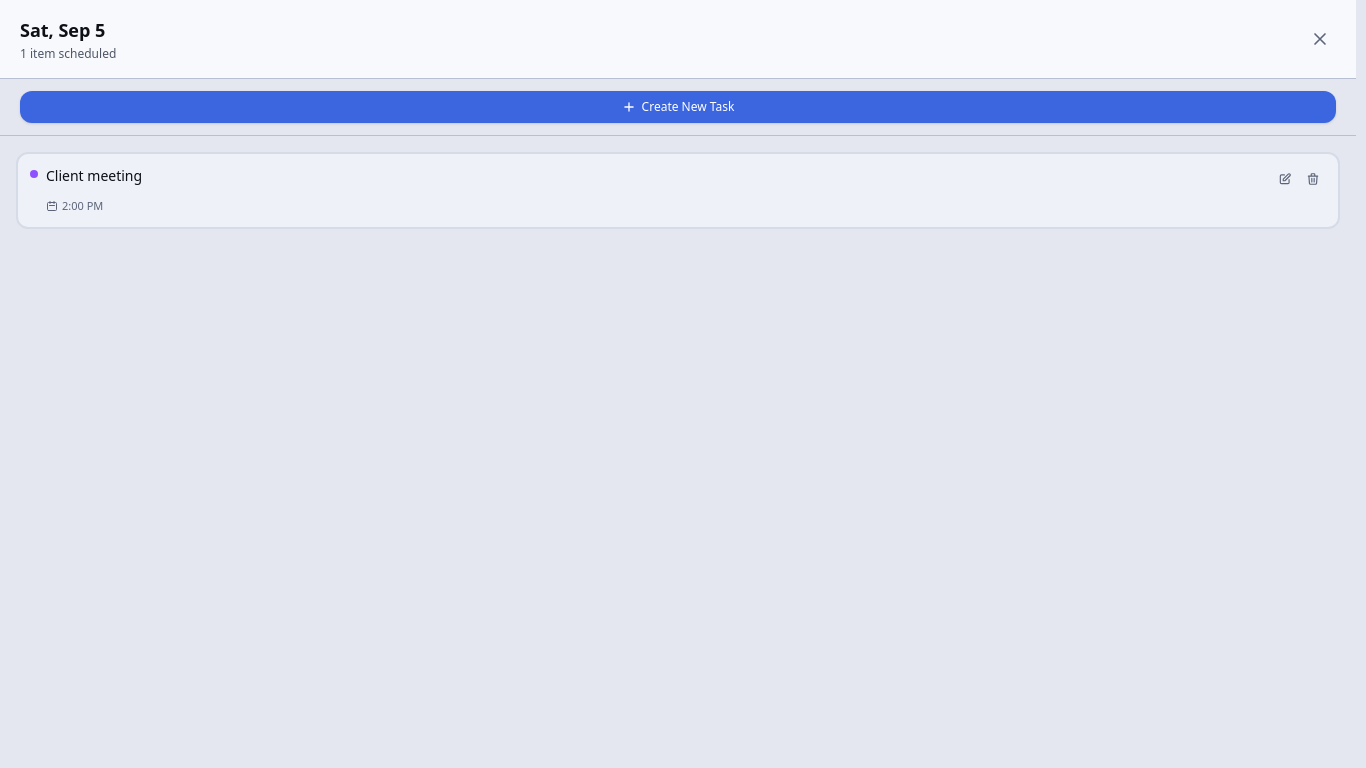
Test: event popup: imported meeting details › marks a private meeting as Private
Click the heading "Client meeting". click: click(94, 176)
box: [46, 166, 142, 186]
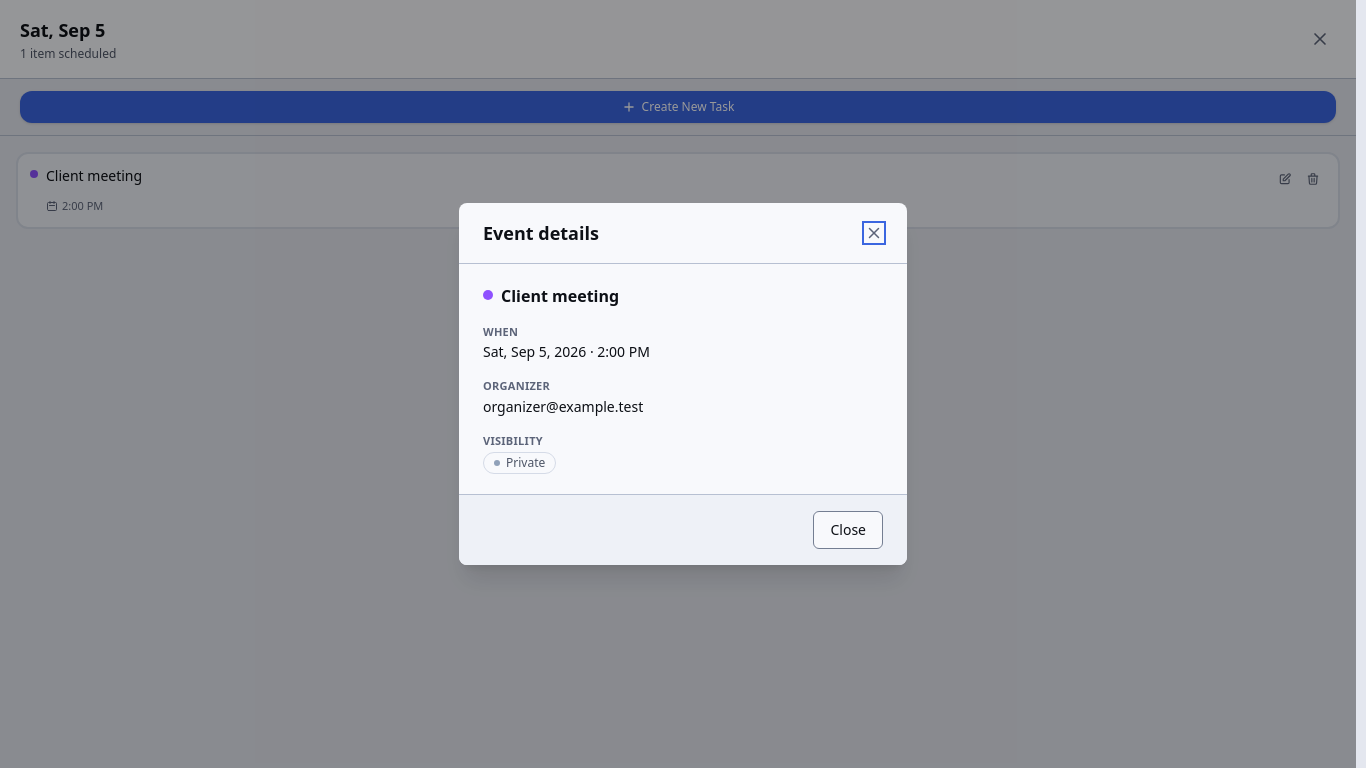
Expected: the text "organizer@example.test" is shown, [483, 397, 643, 416]
Expected: the text "Visibility" is shown, [483, 433, 543, 448]
Expected: the text "Private" is shown, [483, 452, 556, 474]
